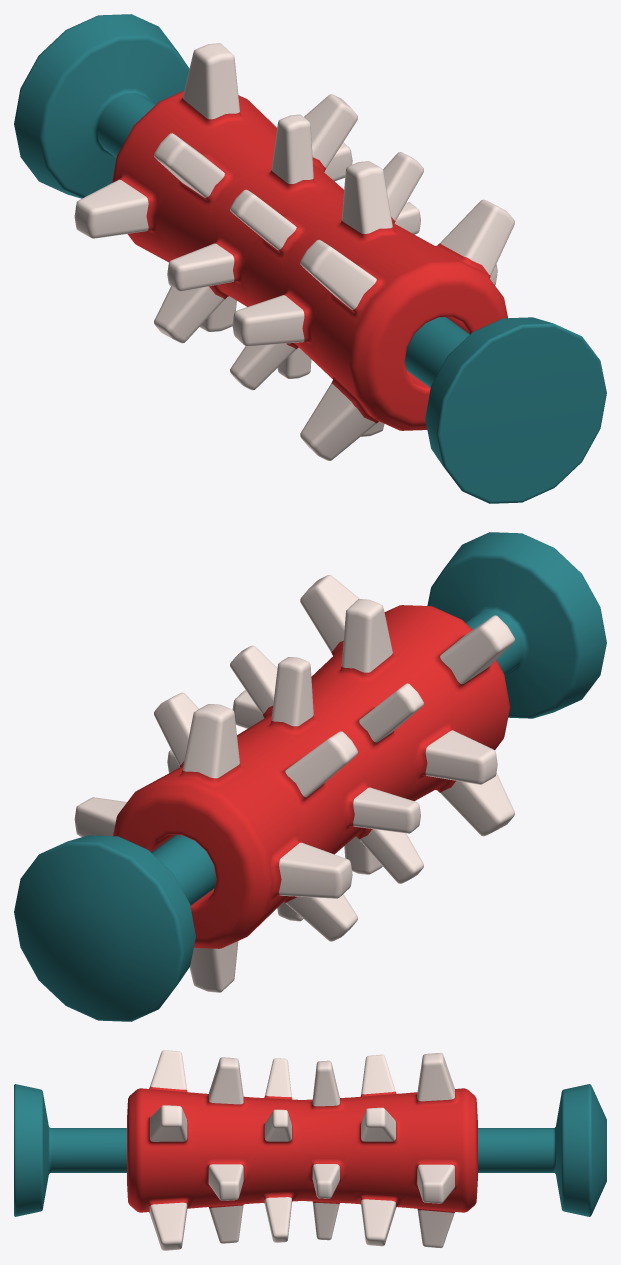
3 renders of one model, top to bottom at view 1: azimuth 30°, elevation 25°; view 2: azimuth 150°, elevation 25°; view 3: azimuth 270°, elevation 25°, orthographic. The views are drawn at different scales.
Visible parts, largest first — view 1: Cylinder.003, Cylinder.002; view 2: Cylinder.003, Cylinder.002; view 3: Cylinder.003, Cylinder.002.
Part boxes in pixels (x1,y1,x2,y2): Cylinder.003: (74,43,514,460); Cylinder.002: (14,14,606,503); Cylinder.003: (74,575,514,992); Cylinder.002: (14,532,606,1021); Cylinder.003: (127,1050,477,1250); Cylinder.002: (14,1084,606,1216).
Size of the model in its own units: 2 by 2 by 5.66.
